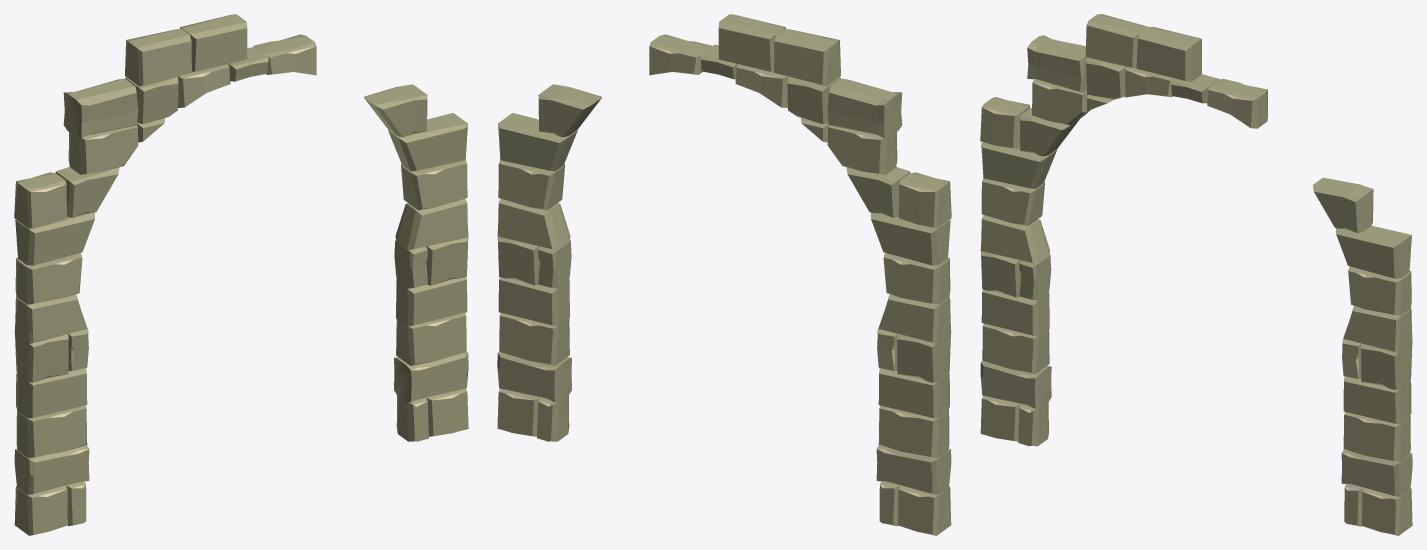
The model's file is expedition-ruin-arch.glb.
3 views of the same model, side by side, from view 1: azimuth 30°, elevation 25°; view 2: azimuth 150°, elevation 25°; view 3: azimuth 330°, elevation 25° (orthographic). The views are drawn at different scales.
Parts seen in each view (by area): view 1: Wall_ArchRound_Broken; view 2: Wall_ArchRound_Broken; view 3: Wall_ArchRound_Broken.
Boxes of the visible parts, box(x1,y1,x2,y2) form: Wall_ArchRound_Broken: box(14, 14, 468, 535); Wall_ArchRound_Broken: box(497, 14, 951, 535); Wall_ArchRound_Broken: box(980, 14, 1412, 535).
Size of the model in its own units: 3.99 by 3.98 by 0.31.
